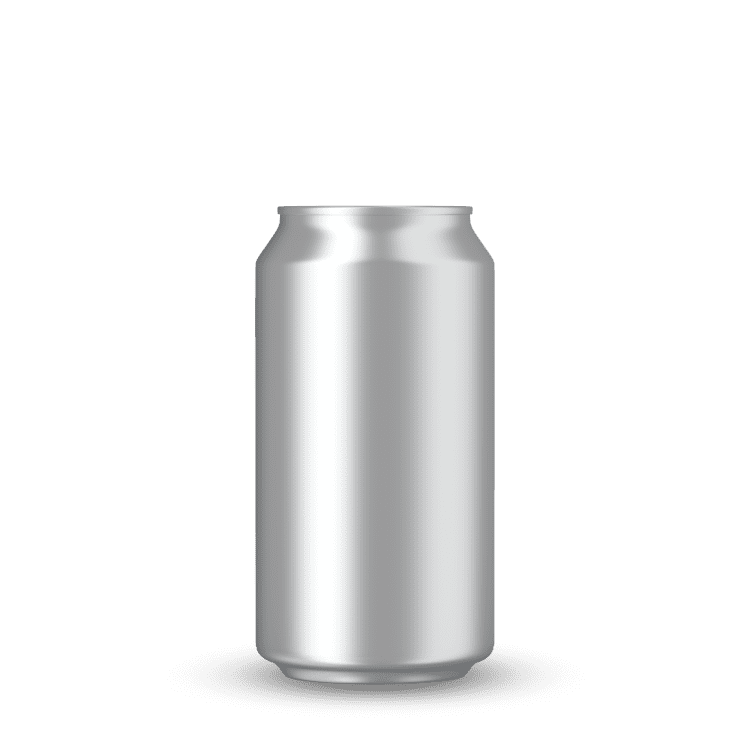can: (244, 201, 502, 694)
